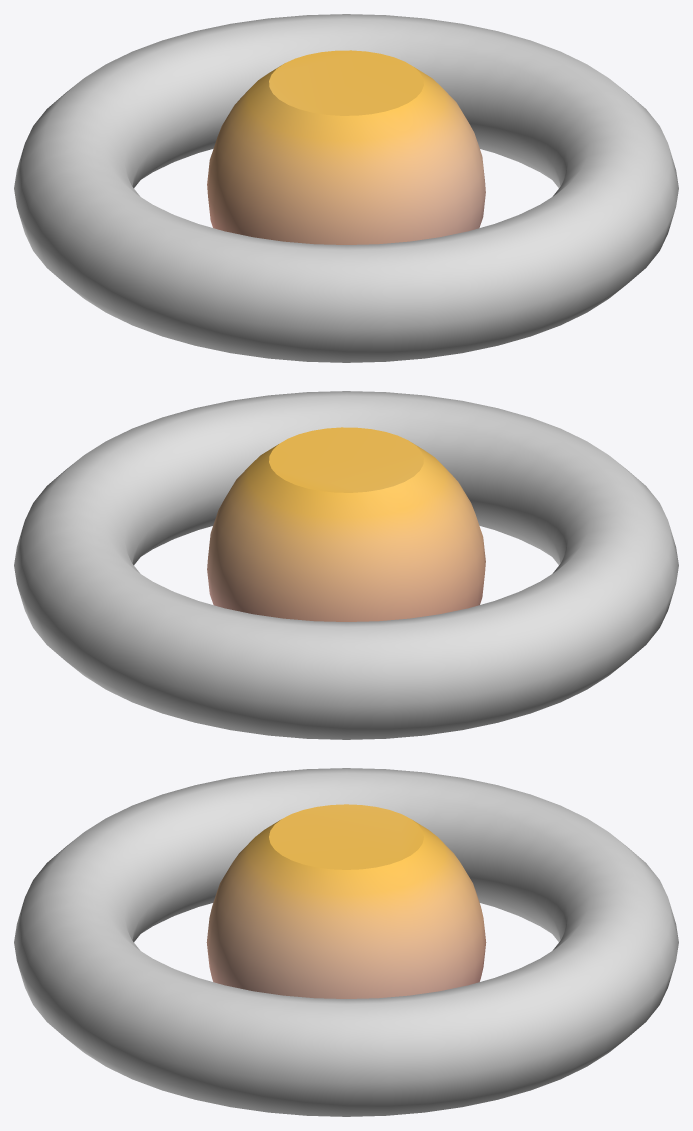
3 views of the same model, one above another, from view 1: azimuth 30°, elevation 25°; view 2: azimuth 150°, elevation 25°; view 3: azimuth 270°, elevation 25° (orthographic).
Visible parts, largest first — view 1: teapot, teapot.001; view 2: teapot, teapot.001; view 3: teapot, teapot.001.
Boxes of the visible parts, left/top/right/bottom form: teapot: left=14, top=14, right=678, bottom=362; teapot.001: left=207, top=50, right=485, bottom=244; teapot: left=14, top=391, right=678, bottom=739; teapot.001: left=207, top=427, right=485, bottom=621; teapot: left=14, top=768, right=678, bottom=1116; teapot.001: left=206, top=804, right=486, bottom=998.
Bounding box in the file's own units: 7.04 × 2.71 × 7.04.
